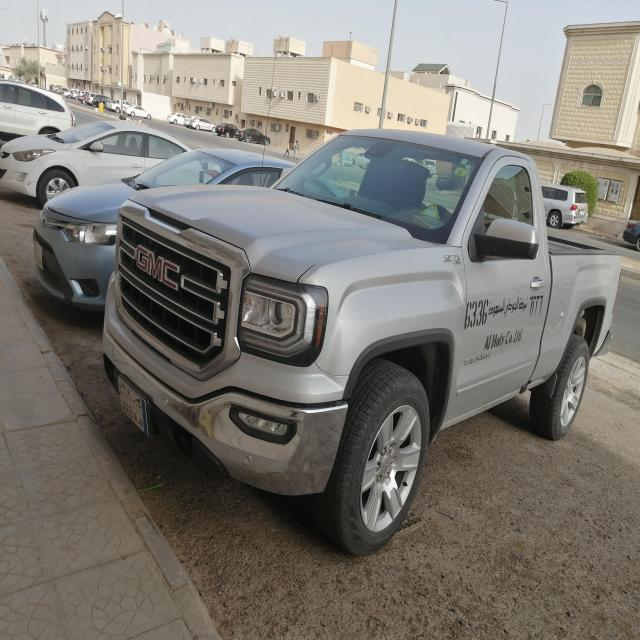license_plate: (114, 374, 151, 438)
